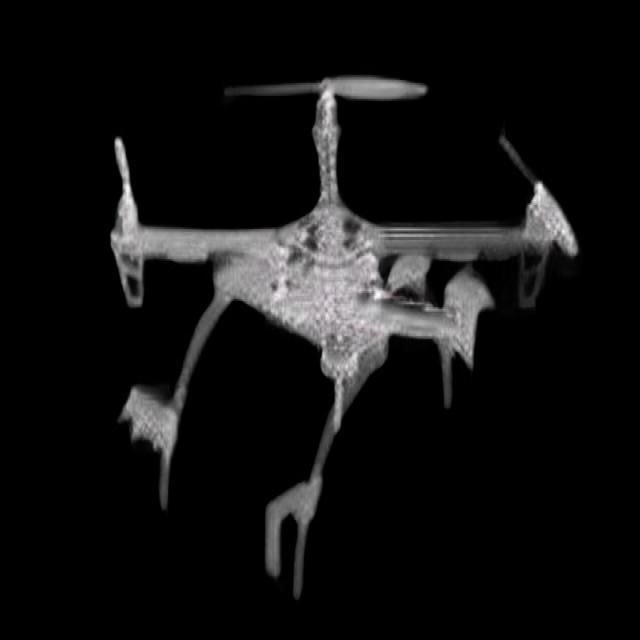drone: (103, 74, 584, 601)
